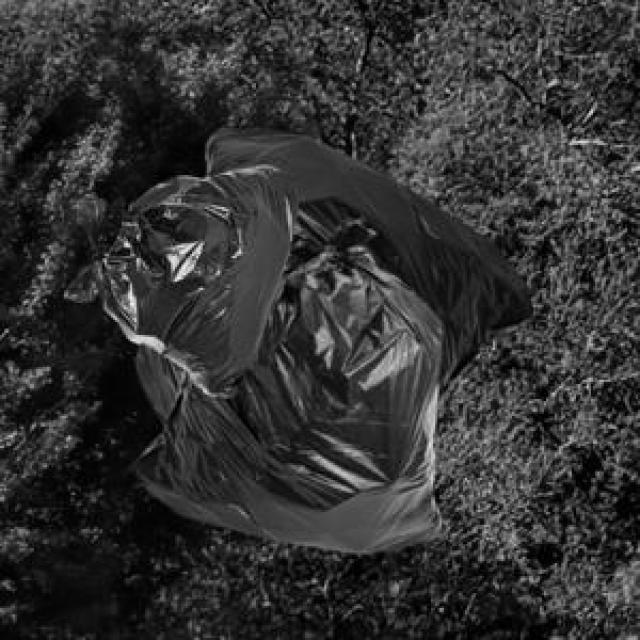miscellaneous trash: (132, 124, 531, 420), (128, 213, 437, 548), (60, 162, 294, 395)
